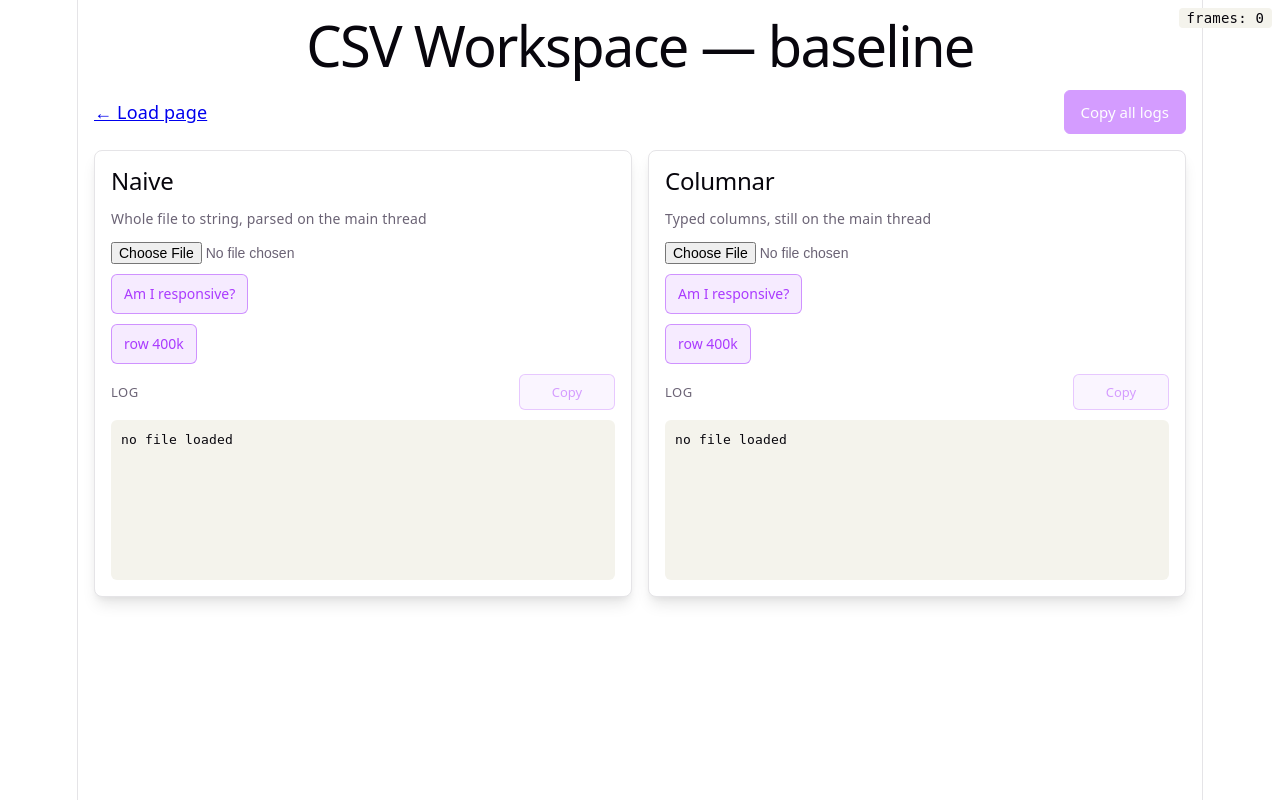
Test: BenchPage › logs responsiveness clicks per panel
Click the button "Am I responsive?" below "Typed columns, still on the main thread". click: (734, 294)
box: [665, 274, 802, 314]
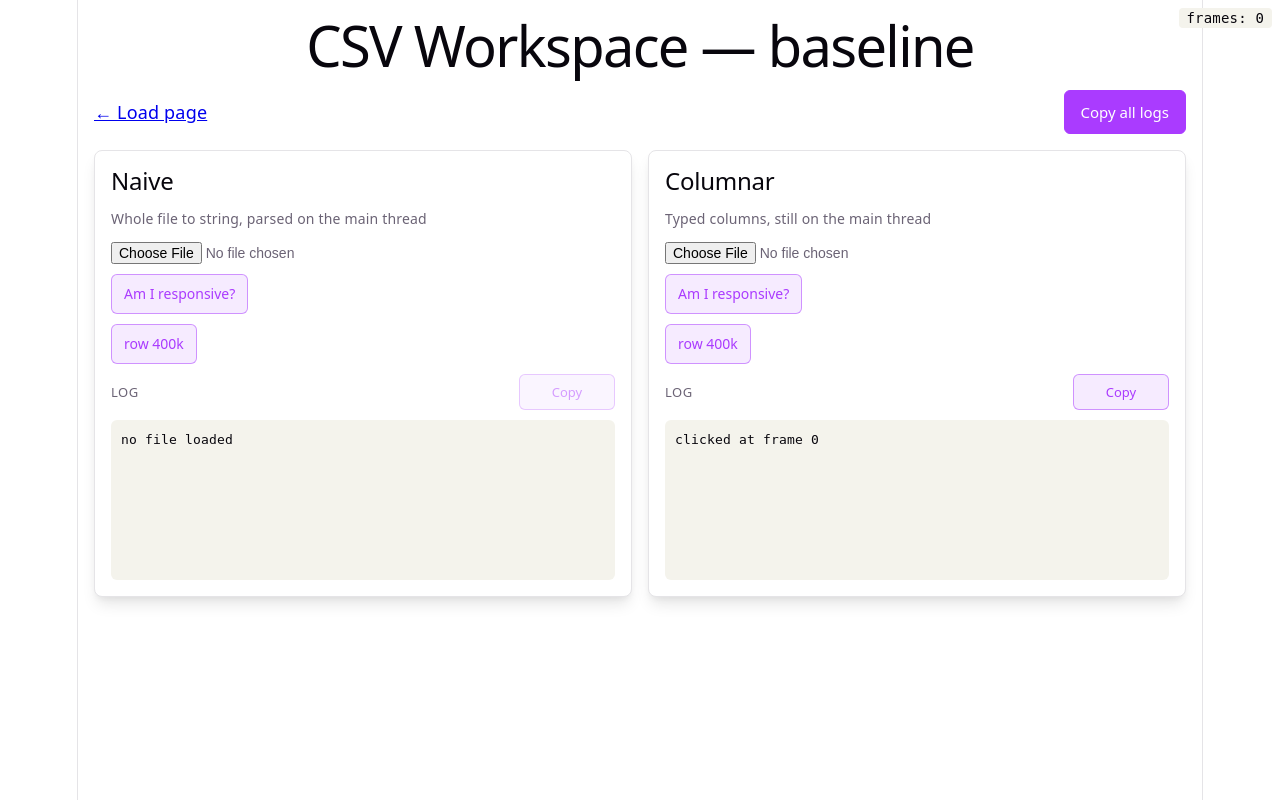
Expected: the text "no file loaded" is shown, [111, 420, 615, 580]
Now the text "clicked at frame 0" is shown, box [665, 420, 1169, 580]
